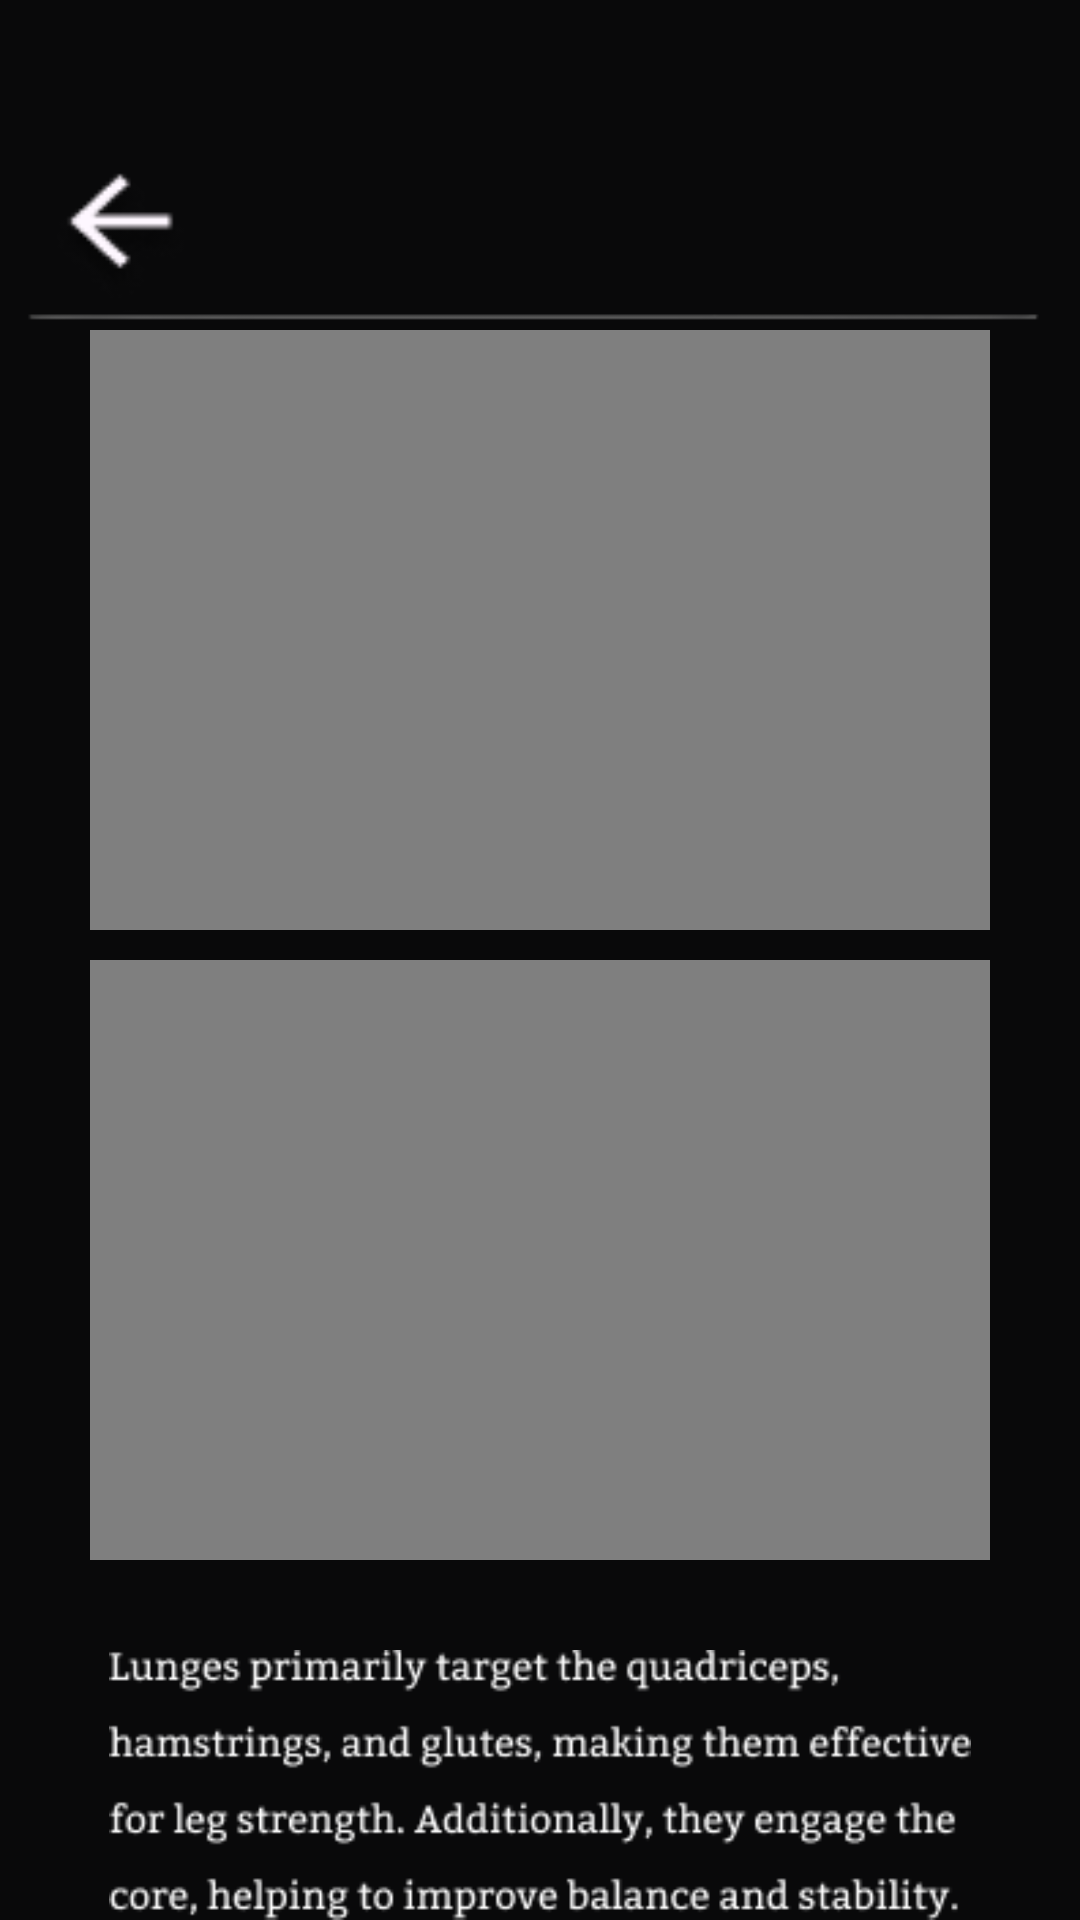

Icons on this 1080w x 1920h Android screen, each with its box as [x1, y1, x2, y2]:
whiteback: [69, 174, 173, 269]
